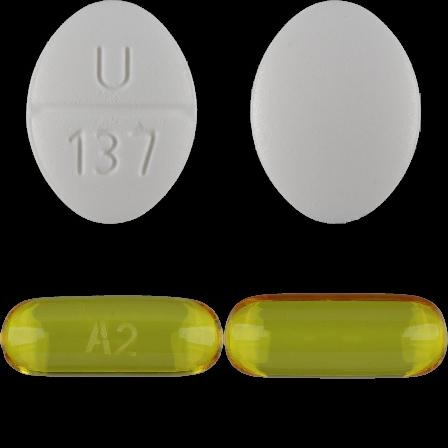61919-268: (0, 0, 224, 224)
